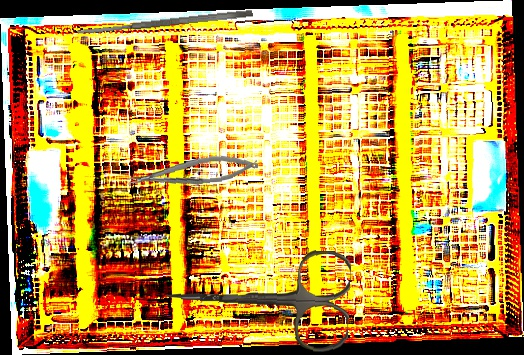Iris Scissors: (162, 242, 353, 354)
Needle Holder: (126, 152, 259, 191)
Spatula Surgical: (77, 8, 253, 37)
